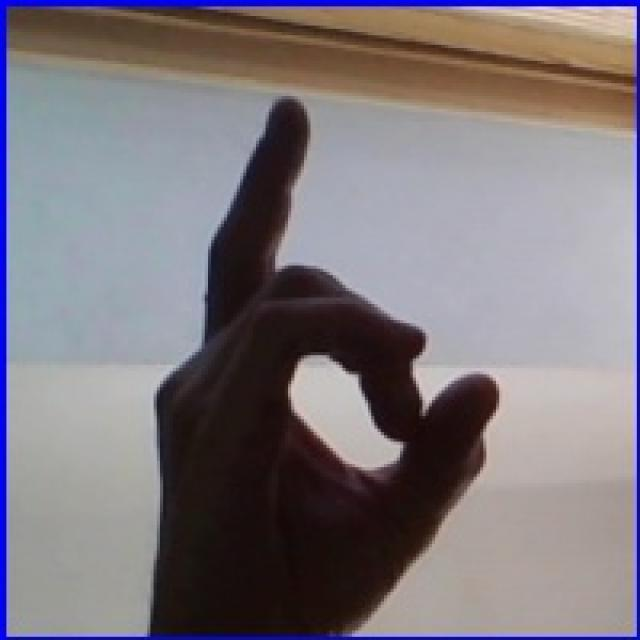Letra D: (131, 86, 542, 626)
